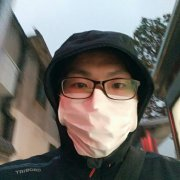face_mask: (57, 48, 138, 156)
